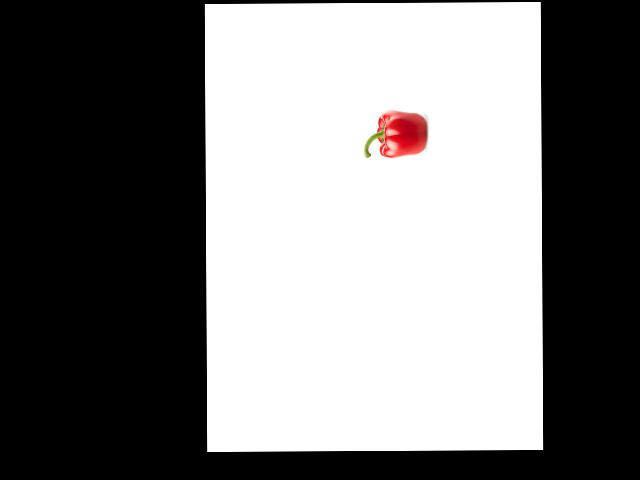bell_pepper: (363, 111, 427, 159)
